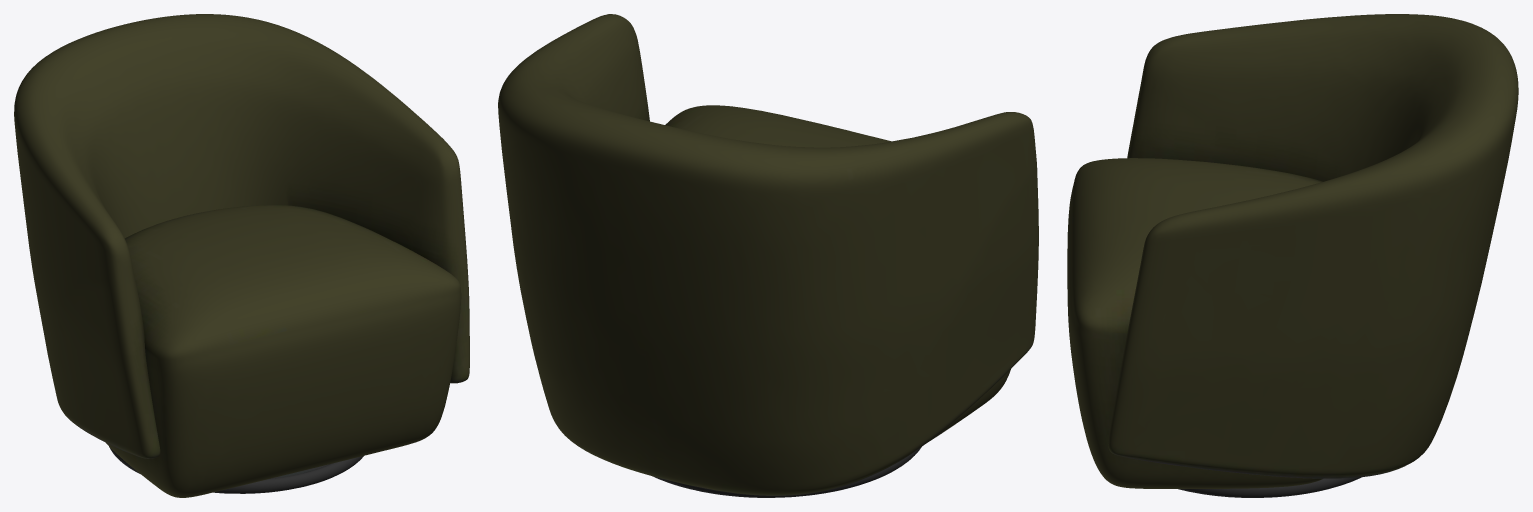
Rendered from abo-B0854SM298.glb.
3 views of the same model, side by side, from view 1: azimuth 30°, elevation 25°; view 2: azimuth 150°, elevation 25°; view 3: azimuth 270°, elevation 25° (orthographic). The views are drawn at different scales.
Bounding box in the file's own units: 0.773 × 0.698 × 0.773.
Materials: 1 (1 with a texture image).
